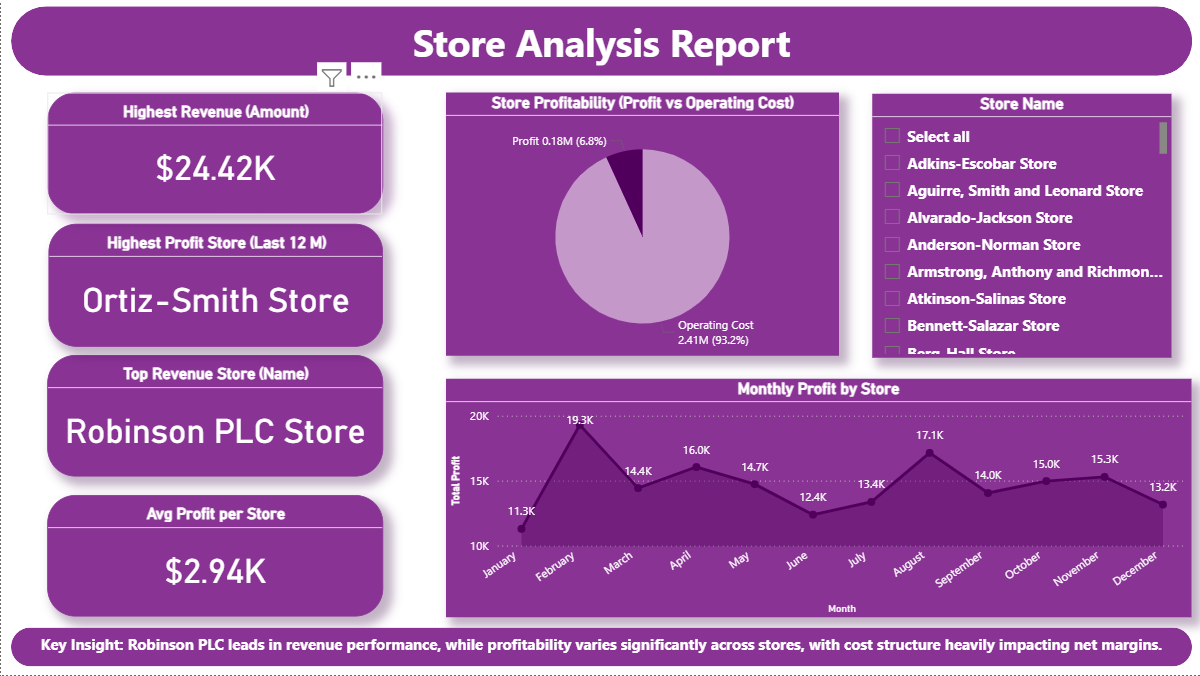

Layout of this report page (visuals, bound fields, positions):
{"tool":"powerbi","page":{"name":"Store Analysis Report ","canvas":[1280,720],"ordinal":3},"visuals":[{"type":"shape","box":[10.8,6.7,1260.1,74.1],"z":0},{"type":"card","title":"Top Revenue Store (Name)","fields":{"Values":["Cleaned Customers.Store with Highest Sales"]},"box":[49.4,379.2,316.9,129.9],"z":1000},{"type":"card","title":"Highest Profit Store (Last 12 M)","fields":{"Values":["Cleaned Customers.Highest Profit Store (Last 12M)"]},"box":[50.6,239,318.2,129.9],"z":2000},{"type":"card","title":"Avg Profit per Store","fields":{"Values":["Cleaned Customers.Avg Profit per Store"]},"box":[49.4,528.6,316.9,129.9],"z":3000},{"type":"card","title":"Highest Revenue (Amount)","fields":{"Values":["Cleaned Customers.Highest Store Sales"]},"box":[49.4,98.7,316.9,129.9],"z":4000},{"type":"lineChart","title":"Monthly Profit by Store ","fields":{"Y":["Cleaned Customers.Total Profit"],"Category":["DateTable.Date.Variation.Date Hierarchy.Month"]},"box":[475.3,403.9,794.8,254.5],"z":5000},{"type":"shape","box":[10.4,668.8,1259.7,41.6],"z":6000},{"type":"pieChart","title":"Store Profitability (Profit vs Operating Cost) ","fields":{"Y":["Cleaned Customers.Profitability Value"],"Category":["Profitability Structure.Metric"]},"box":[475.3,98.7,419.5,280.5],"z":7000},{"type":"slicer","title":"Store Name","fields":{"Values":["Cleaned Stores.store_name"]},"box":[929.9,100,319.5,281.8],"z":8000}]}

Visuals, with their boxes in screenshot pixels (x1, y1, x2, y2), scaled from the page's 1280x720 canvas onto the 1200x676 screenshot:
shape: x1=10, y1=6, x2=1191, y2=76
"Top Revenue Store (Name)" card: x1=46, y1=356, x2=343, y2=478
"Highest Profit Store (Last 12 M)" card: x1=47, y1=224, x2=346, y2=346
"Avg Profit per Store" card: x1=46, y1=496, x2=343, y2=618
"Highest Revenue (Amount)" card: x1=46, y1=93, x2=343, y2=215
"Monthly Profit by Store " lineChart: x1=446, y1=379, x2=1191, y2=618
shape: x1=10, y1=628, x2=1191, y2=667
"Store Profitability (Profit vs Operating Cost) " pieChart: x1=446, y1=93, x2=839, y2=356
"Store Name" slicer: x1=872, y1=94, x2=1171, y2=358
